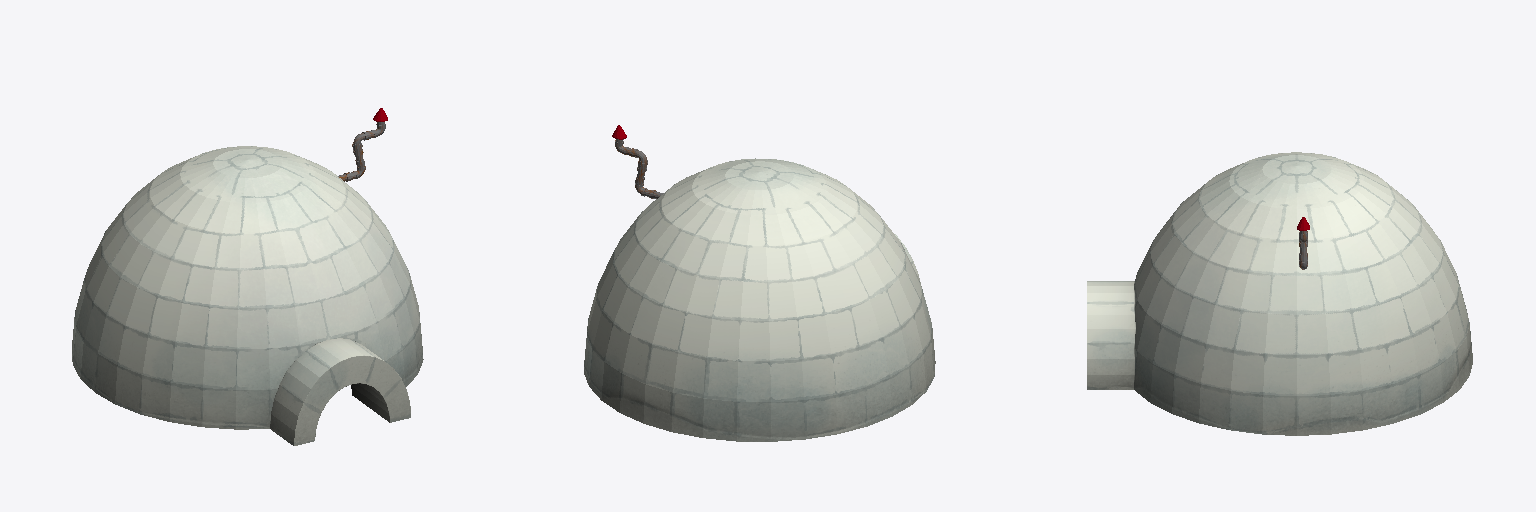
3 renders of one model, left to right at view 1: azimuth 30°, elevation 25°; view 2: azimuth 150°, elevation 25°; view 3: azimuth 270°, elevation 25°, orthographic.
Parts seen in each view (by area): view 1: _exportCopy_Igloo, BezierCurve; view 2: _exportCopy_Igloo, BezierCurve; view 3: _exportCopy_Igloo.
Part boxes in pixels (x1,y1,x2,y2): _exportCopy_Igloo: (72,146,423,445); BezierCurve: (338,108,387,181); _exportCopy_Igloo: (584,158,935,441); BezierCurve: (612,125,663,198); _exportCopy_Igloo: (1087,152,1472,435).
Bounding box in the file's own units: 37.03 × 24.42 × 40.56.
Materials: 2 (2 with a texture image).